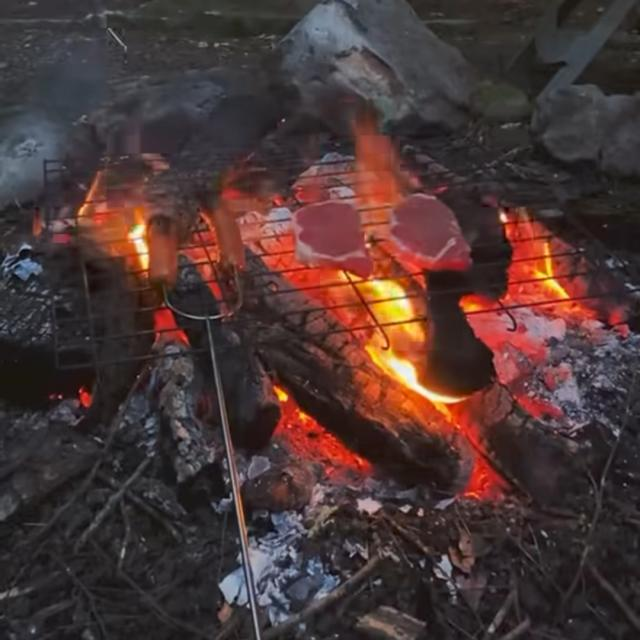fire: (367, 277, 424, 339), (365, 343, 424, 393), (531, 240, 568, 300)
